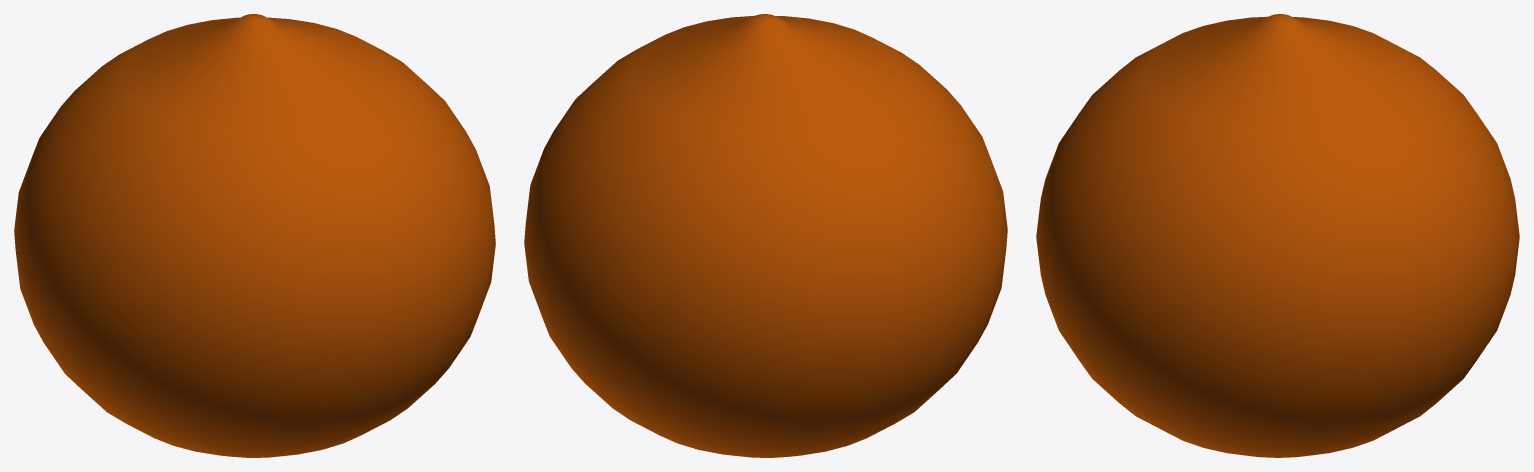
Rendered from nuts_inside.fbx.
3 views of the same model, side by side, from view 1: azimuth 30°, elevation 25°; view 2: azimuth 150°, elevation 25°; view 3: azimuth 270°, elevation 25° (orthographic).
Parts seen in each view (by area): view 1: Sphere; view 2: Sphere; view 3: Sphere.
Boxes of the visible parts, x1,y1,x2,y2 form: Sphere: (14, 14, 495, 457); Sphere: (524, 14, 1007, 457); Sphere: (1036, 14, 1519, 457).
Bounding box in the file's own units: 200 × 190 × 200.
